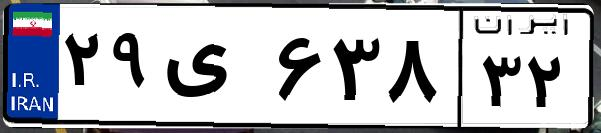2: (57, 26, 110, 100), (525, 38, 570, 115)
3: (330, 28, 385, 110), (475, 38, 525, 113)
6: (270, 28, 330, 110)
8: (385, 28, 445, 110)
9: (110, 28, 158, 98)
ی: (158, 20, 270, 120)
